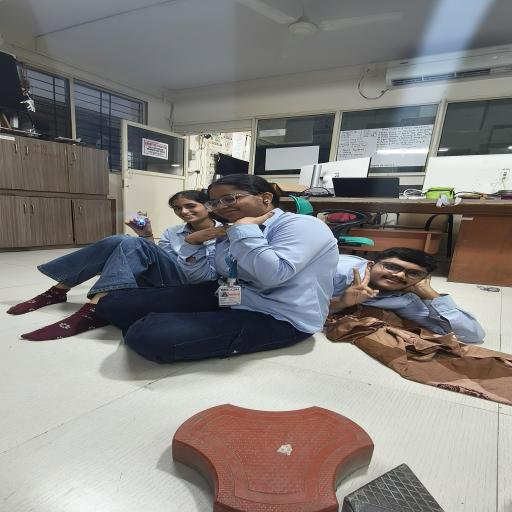survivor: (94, 173, 341, 365), (6, 190, 231, 341), (328, 247, 486, 345)
